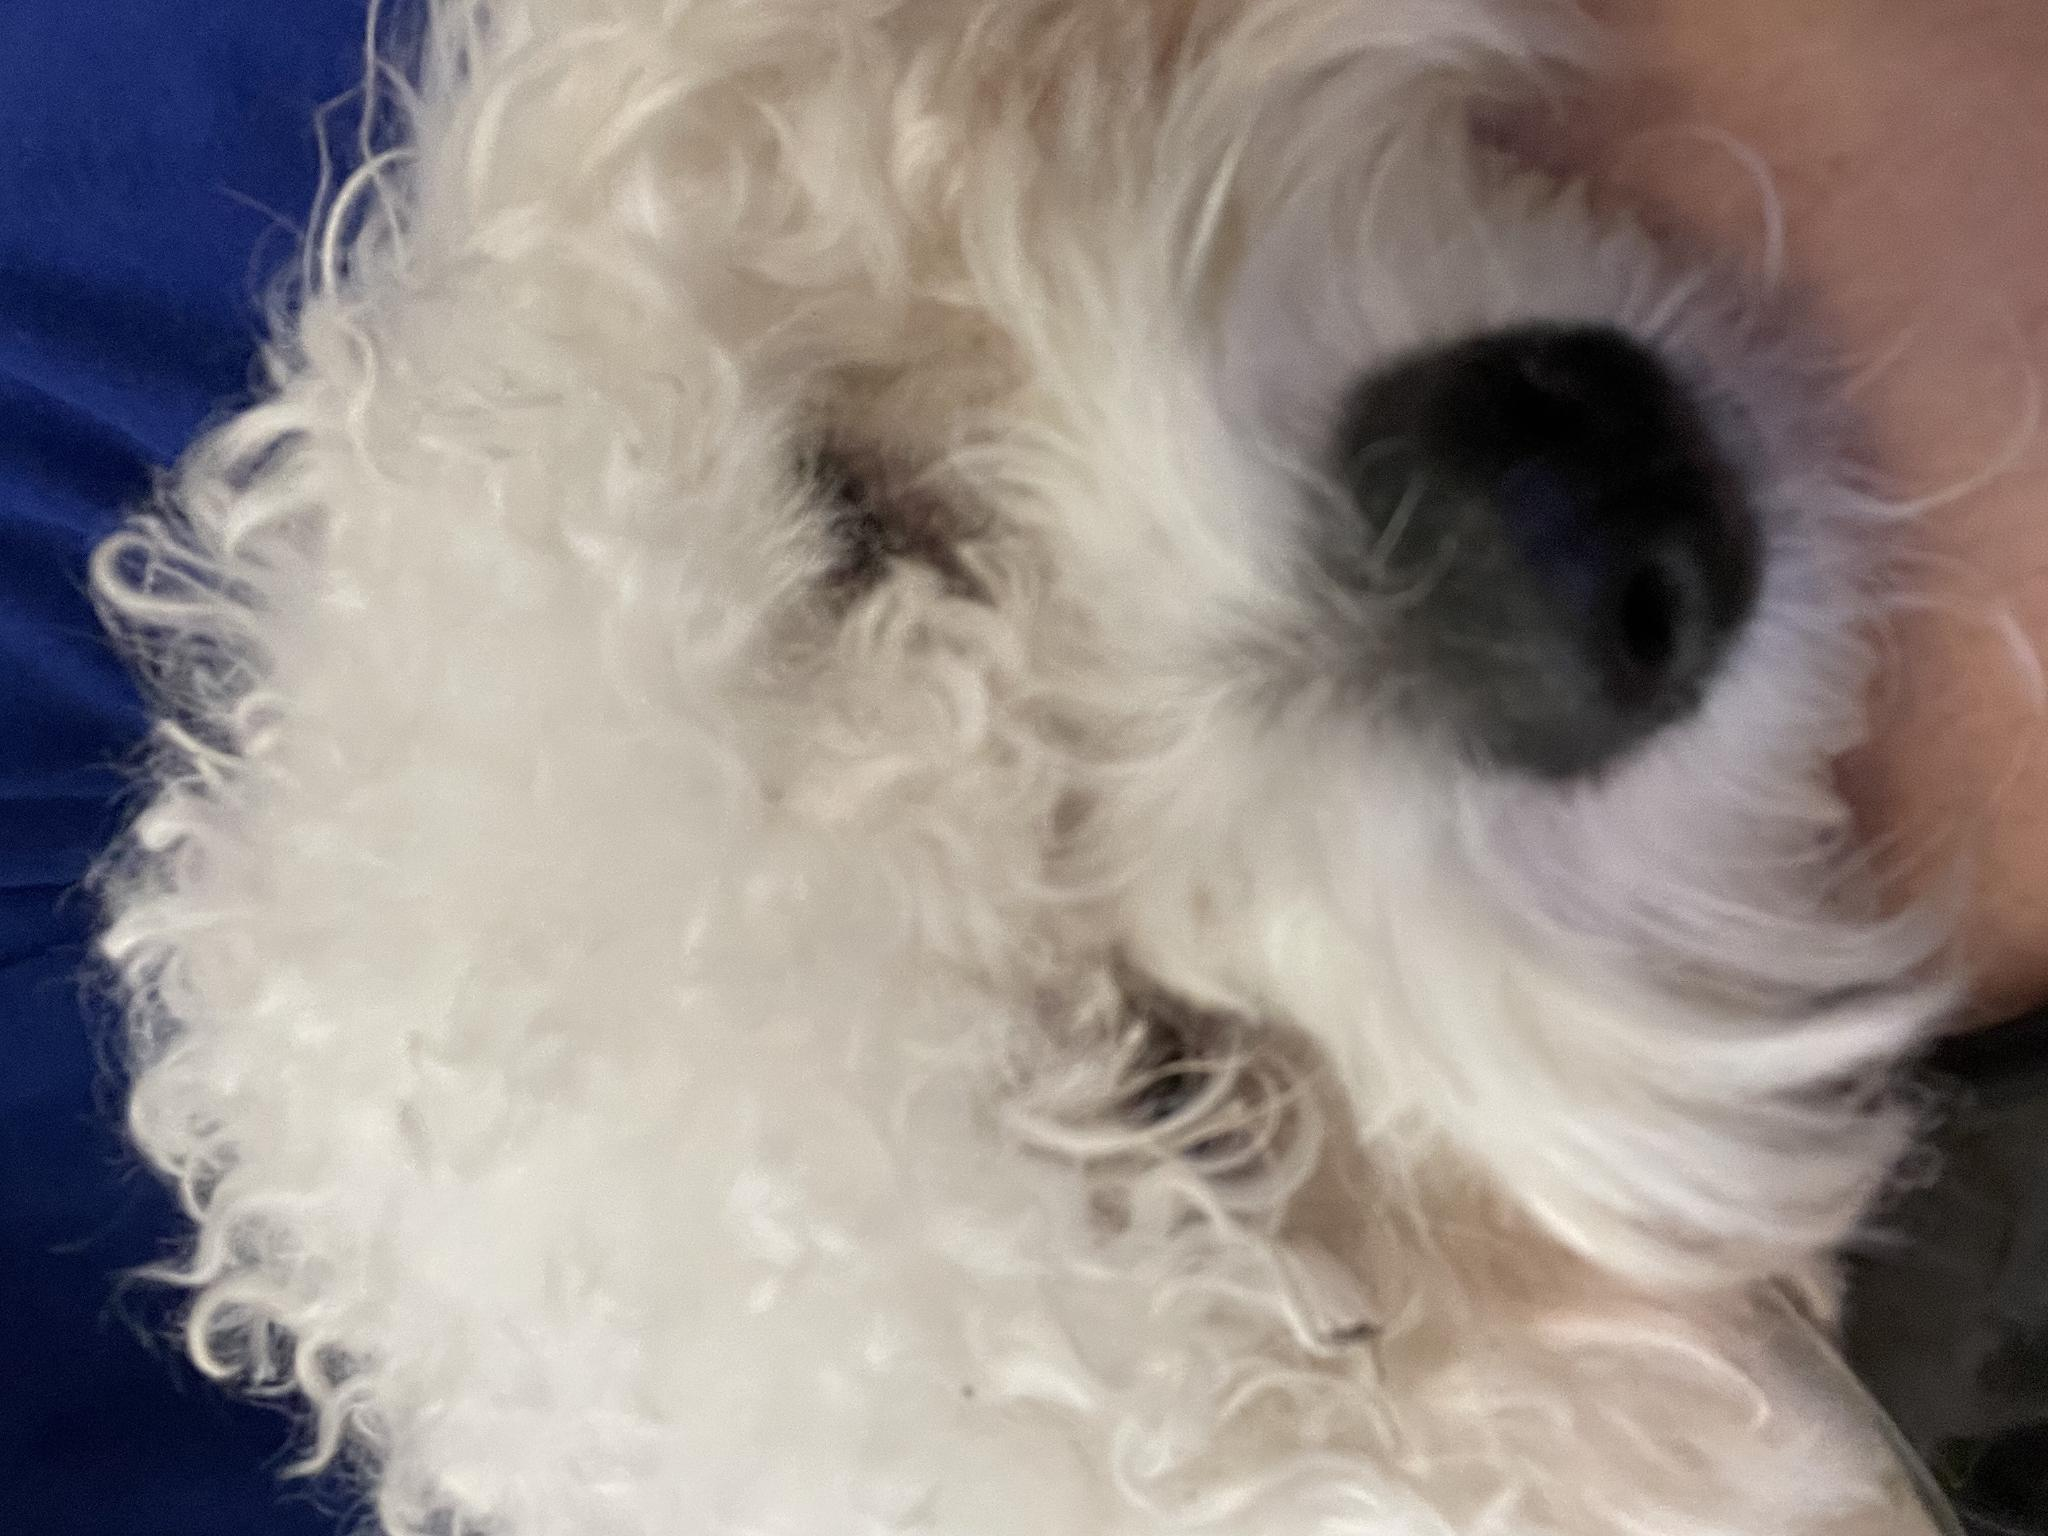dog: (3, 74, 1530, 1536)
